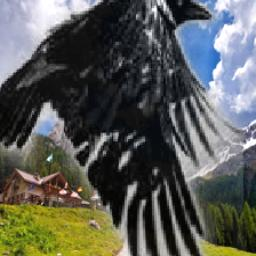Crow: (0, 0, 243, 256)
